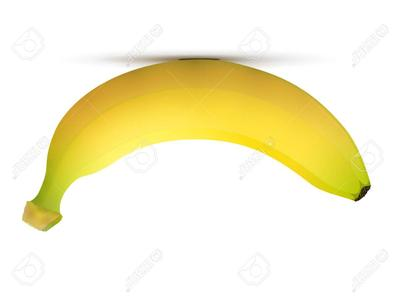banana: (0, 0, 400, 302)
